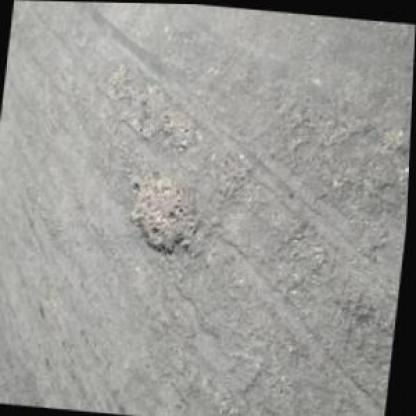pothole: (103, 58, 208, 153), (123, 162, 208, 258)
